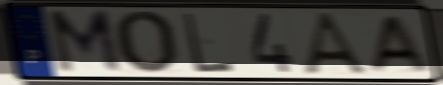4: (250, 12, 295, 75)
A: (300, 10, 375, 78), (365, 13, 432, 75)
L: (181, 11, 237, 75)
M: (44, 8, 126, 76)
O: (111, 9, 180, 76)
